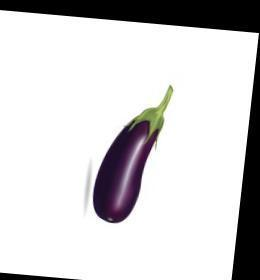eggplant: (66, 71, 186, 237)
